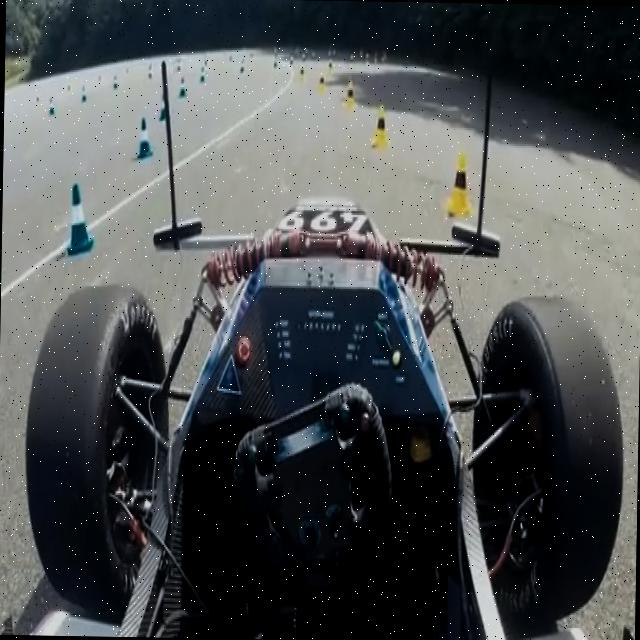blue_cone: (64, 182, 96, 259), (136, 116, 153, 159)
yellow_cone: (444, 152, 472, 216), (371, 106, 392, 150)
